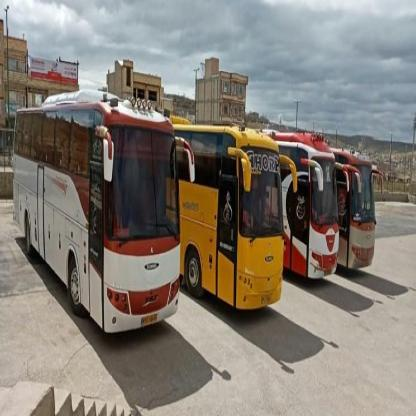Bus: (12, 91, 185, 336), (176, 118, 286, 315), (281, 132, 340, 282), (336, 150, 377, 266)
